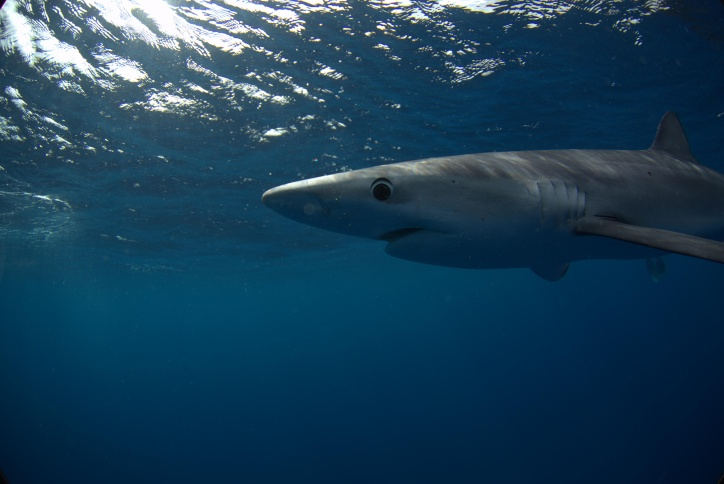Azul: (234, 102, 724, 315)
